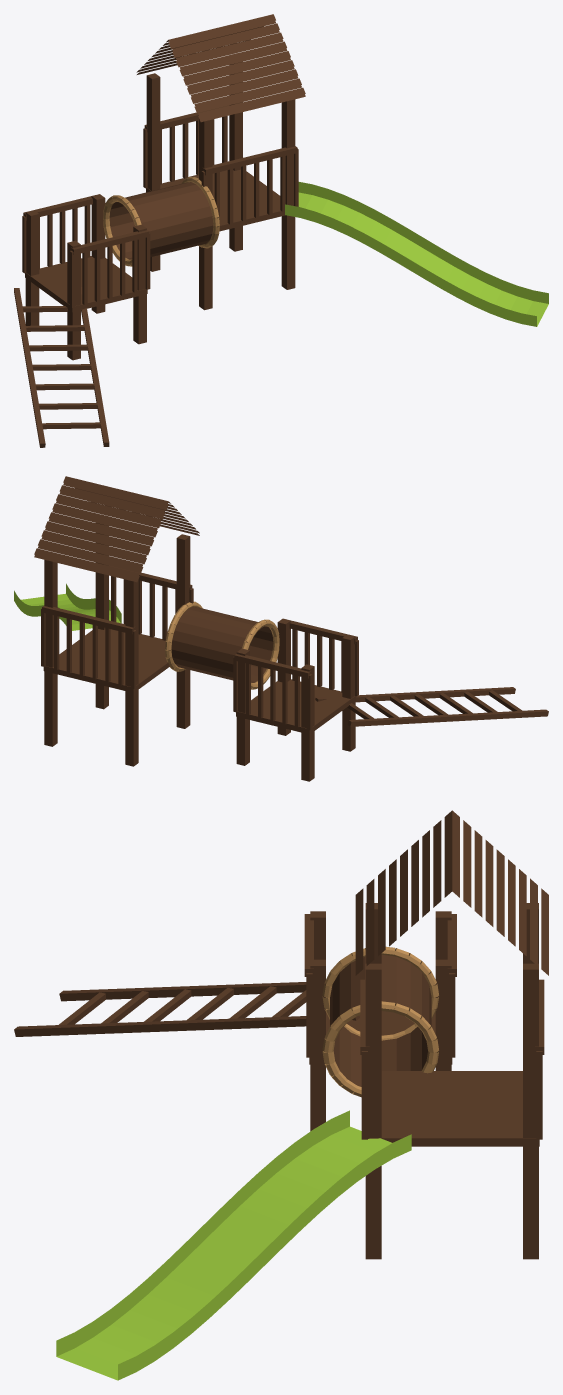
The picture shows the model from 3 angles, top to bottom: view 1: azimuth 30°, elevation 25°; view 2: azimuth 150°, elevation 25°; view 3: azimuth 270°, elevation 25°; orthographic projection. The views are drawn at different scales.
Visible parts, largest first — view 1: SW-Y302; view 2: SW-Y302; view 3: SW-Y302.
Boxes of the visible parts, x1,y1,x2,y2 form: SW-Y302: [14, 14, 548, 447]; SW-Y302: [14, 476, 548, 781]; SW-Y302: [14, 810, 548, 1380].
Bounding box in the file's own units: 6.15 × 2.8 × 3.6.
